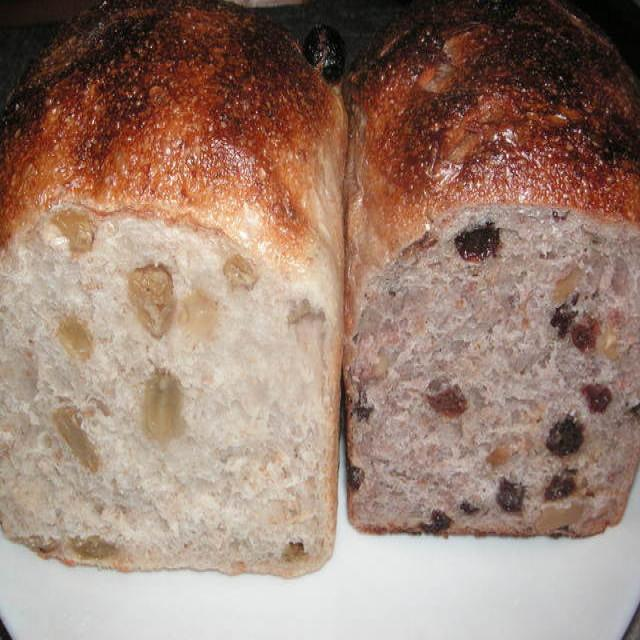面包点心: (0, 0, 640, 557)
